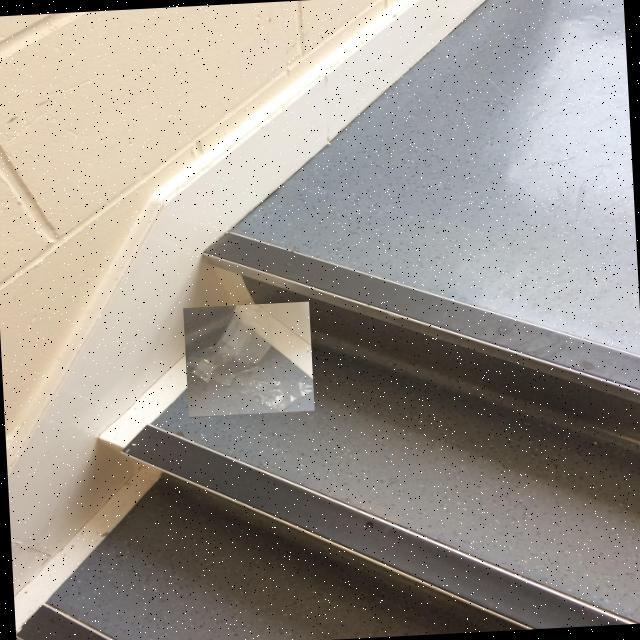Plastic film: (186, 306, 314, 412)
